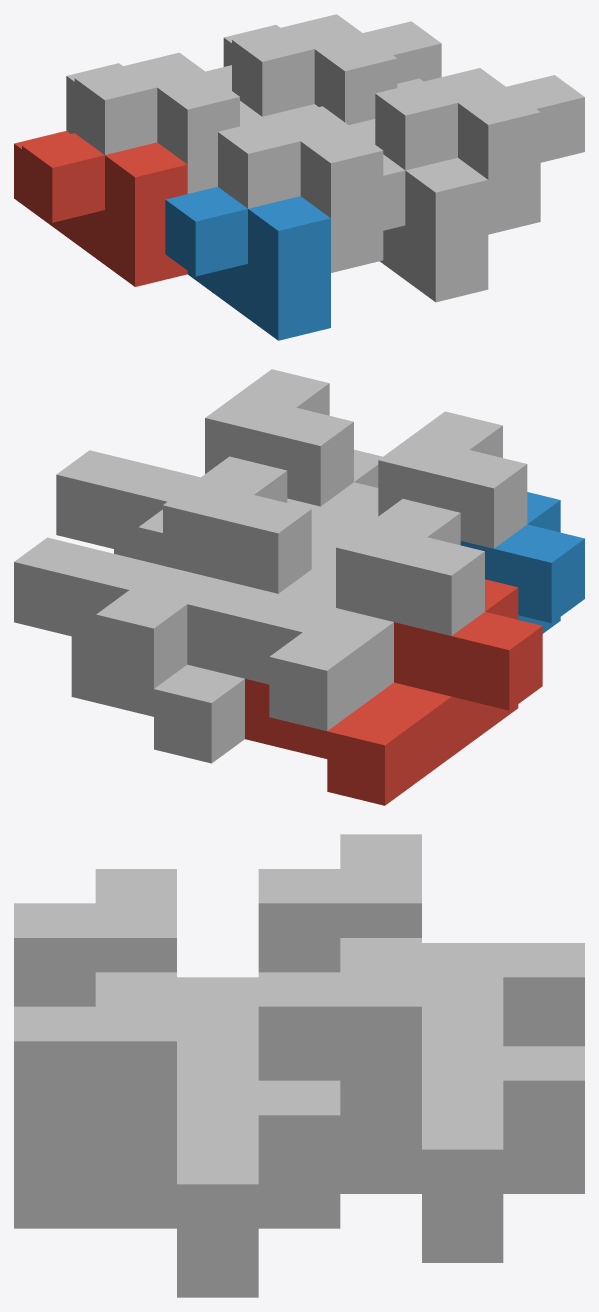
File: tiling.obj
3 views of the same model, one above another, from view 1: azimuth 30°, elevation 25°; view 2: azimuth 150°, elevation 25°; view 3: azimuth 270°, elevation 25° (orthographic). The views are drawn at different scales.
Parts seen in each view (by area): view 1: copy_1_domain_8, copy_1_domain_2, copy_1_domain_1, copy_1_domain_4, copy_1_domain_7, copy_1_domain_3, copy_1_domain_6, copy_1_domain_5; view 2: copy_1_domain_3, copy_1_domain_7, copy_1_domain_1, copy_1_domain_8, copy_1_domain_4, copy_1_domain_5, copy_1_domain_2, copy_1_domain_6; view 3: copy_1_domain_8, copy_1_domain_7, copy_1_domain_3, copy_1_domain_4, copy_1_domain_6, copy_1_domain_5.
Part boxes in pixels (box(x1,y1,x2,y2)): copy_1_domain_8: box(375, 68, 584, 234); copy_1_domain_2: box(165, 186, 330, 340); copy_1_domain_1: box(14, 131, 187, 286); copy_1_domain_4: box(218, 106, 383, 272); copy_1_domain_7: box(223, 14, 441, 124); copy_1_domain_3: box(66, 52, 239, 193); copy_1_domain_6: box(380, 154, 488, 302); copy_1_domain_5: box(240, 101, 318, 121); copy_1_domain_3: box(187, 499, 484, 730); copy_1_domain_7: box(14, 456, 311, 688); copy_1_domain_1: box(245, 579, 542, 805); copy_1_domain_8: box(56, 369, 353, 565); copy_1_domain_4: box(287, 411, 527, 575); copy_1_domain_5: box(71, 537, 340, 763); copy_1_domain_2: box(460, 492, 584, 633); copy_1_domain_6: box(114, 449, 382, 559); copy_1_domain_8: box(14, 972, 340, 1257); copy_1_domain_7: box(258, 938, 584, 1223); copy_1_domain_3: box(258, 834, 584, 1046); copy_1_domain_4: box(14, 869, 258, 1080); copy_1_domain_6: box(14, 1189, 340, 1297); copy_1_domain_5: box(340, 1154, 584, 1262).
Size of the model in its own units: 9 by 3 by 7.
